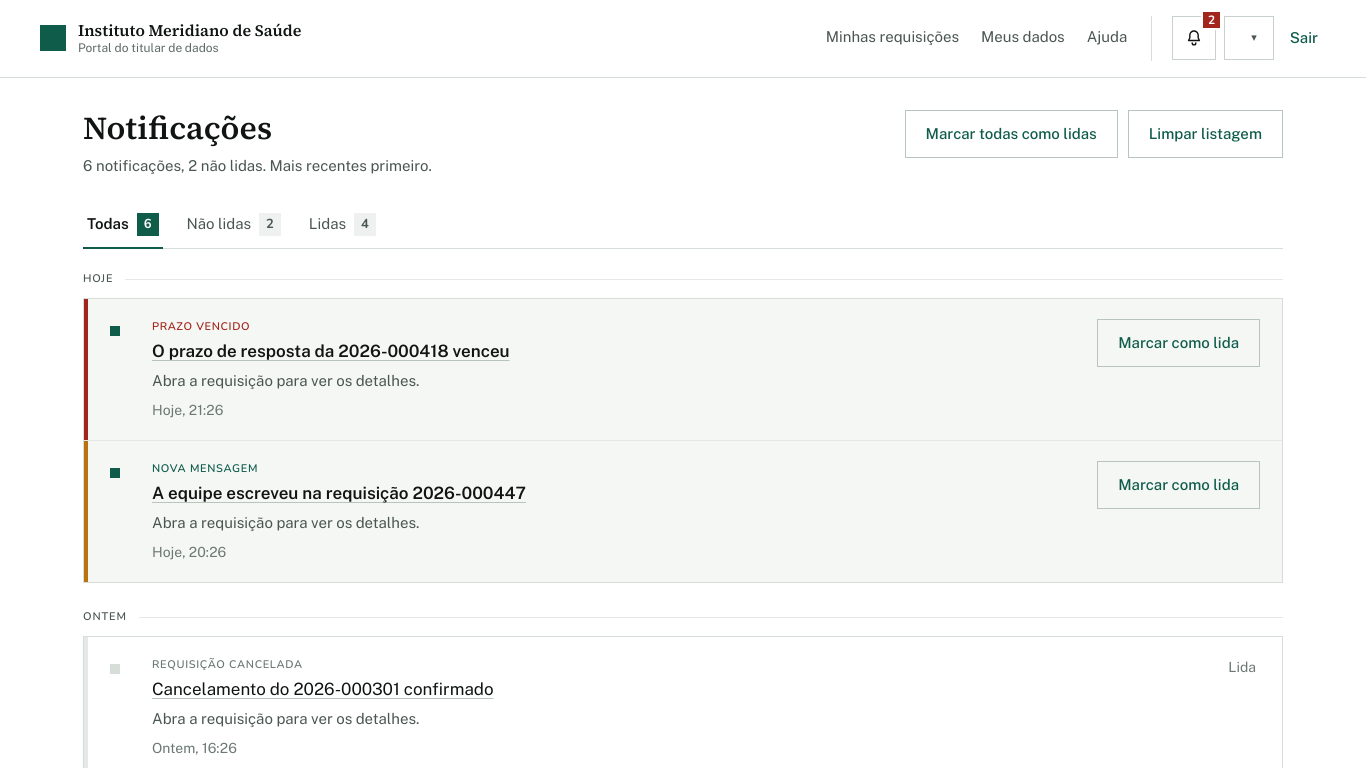
Test case: NotificationsView › acionar leva ao recurso e marca como lido
Click the button "O prazo de resposta da 2026-000418 venceu".
click(331, 351)  # box [152,340,1081,364]
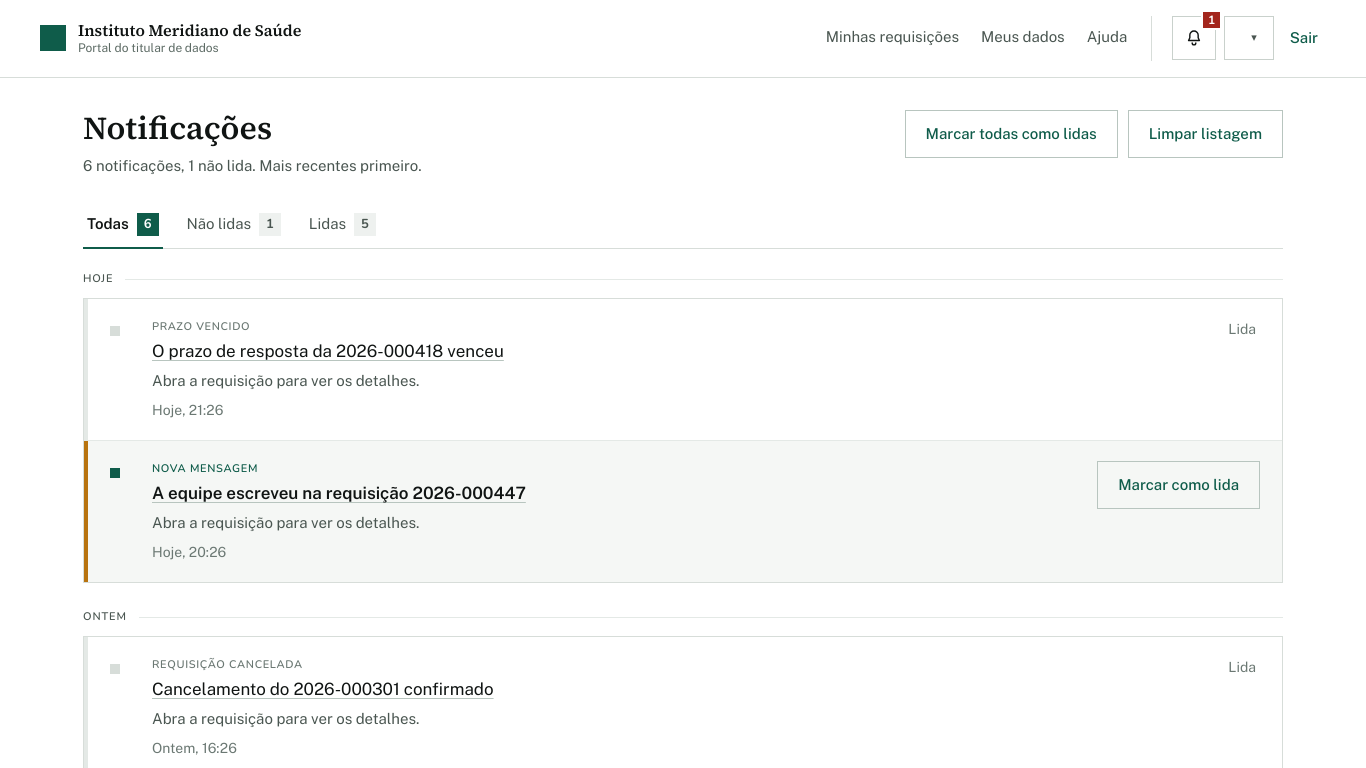
Expected: the text "1 não lida" is shown, [83,157,422,174]
